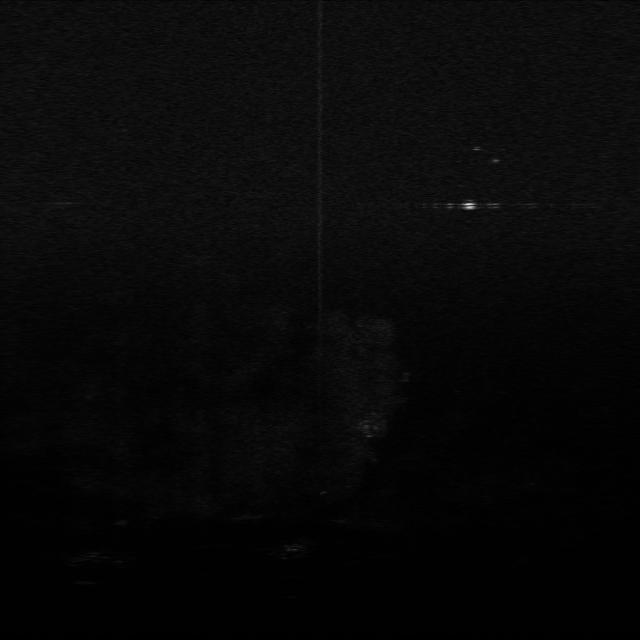rov: (453, 197, 482, 213)
